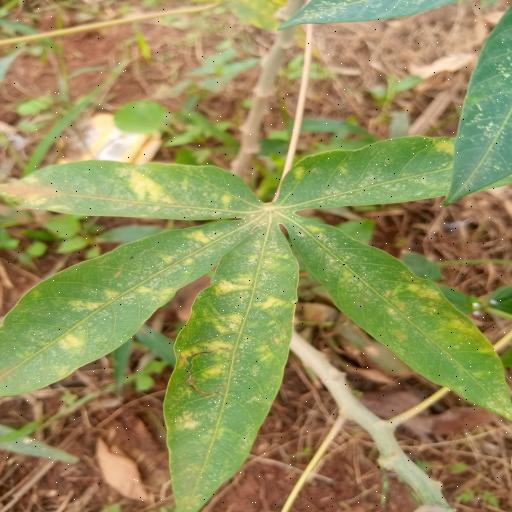Cassava_Mosaic: (0, 134, 512, 508)
